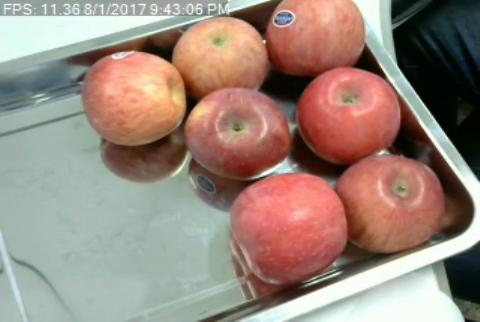apple: (230, 173, 348, 282), (339, 154, 444, 253), (295, 66, 400, 162), (82, 51, 186, 146), (184, 88, 291, 180), (268, 0, 365, 73), (173, 16, 268, 90)
